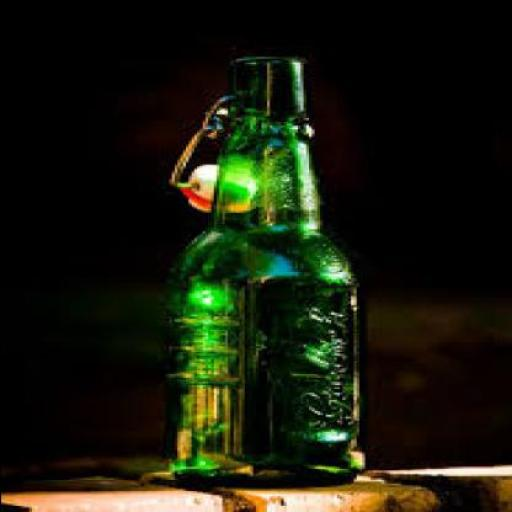glass: (159, 52, 359, 482)
plastic: (182, 158, 252, 208)
